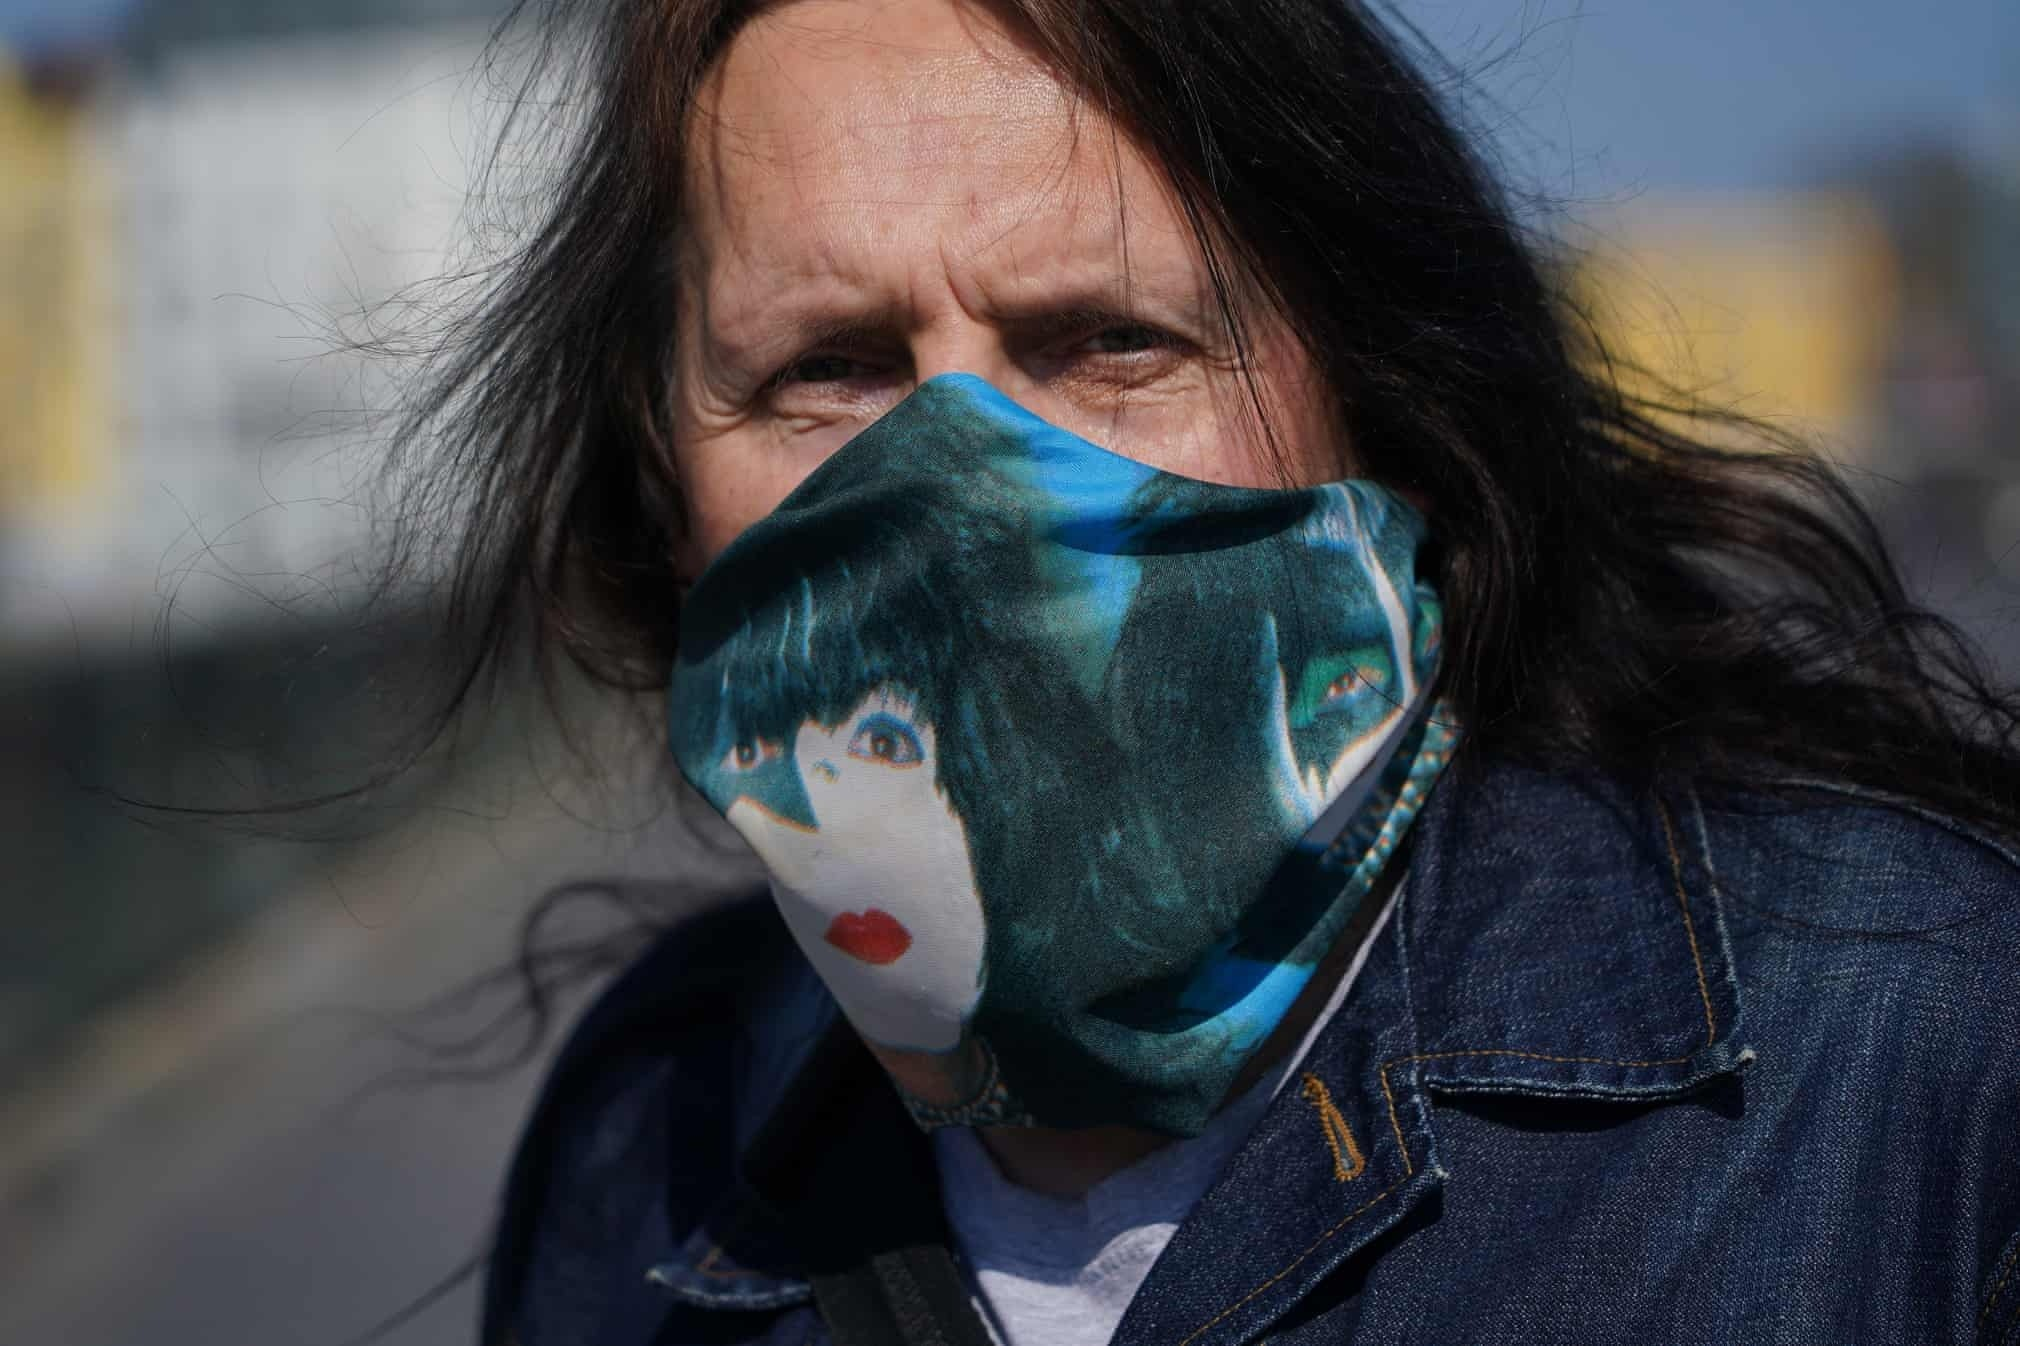face_with_mask: (590, 14, 1479, 1024)
